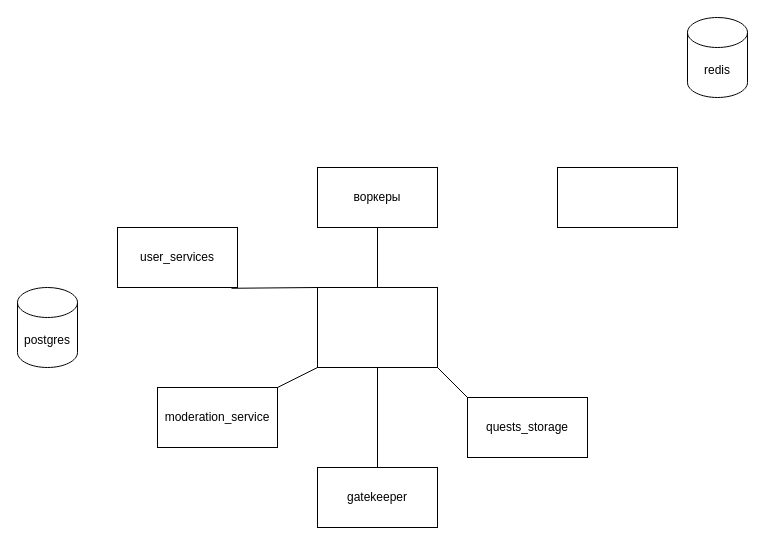
Some shapes in this 765 by 545 pixel diagram are drawn without their labels. Here are the shapes that lost their labels. From the top down, the box of each, then its label:
(556, 166, 678, 228): frontend
(316, 286, 438, 368): kafka
